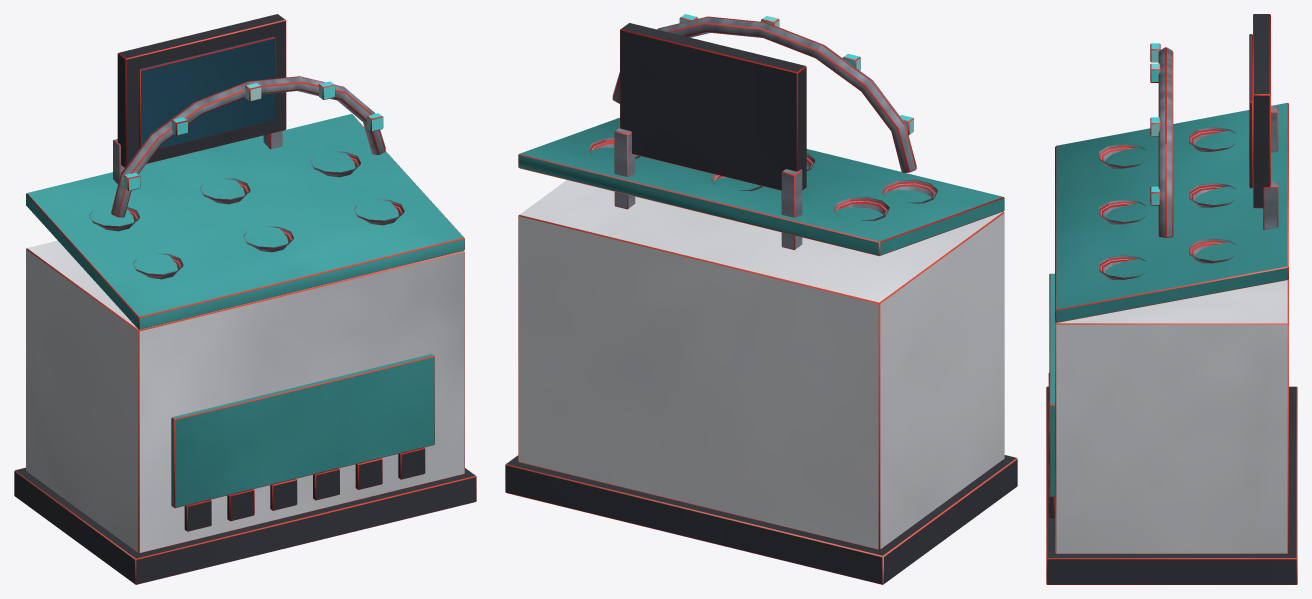
Rendered from Env_Prop_HealingMachine.fbx.
The picture shows the model from 3 angles, left to right: view 1: azimuth 30°, elevation 25°; view 2: azimuth 150°, elevation 25°; view 3: azimuth 270°, elevation 25°; orthographic projection. The views are drawn at different scales.
Parts seen in each view (by area): view 1: Env_Prop_HealingMachine; view 2: Env_Prop_HealingMachine; view 3: Env_Prop_HealingMachine.
Part boxes in pixels (x1=…): Env_Prop_HealingMachine: x1=14, y1=14, x2=476, y2=584; Env_Prop_HealingMachine: x1=505, y1=14, x2=1017, y2=584; Env_Prop_HealingMachine: x1=1046, y1=14, x2=1297, y2=584.
Bounding box in the file's own units: 136 × 84 × 164.
